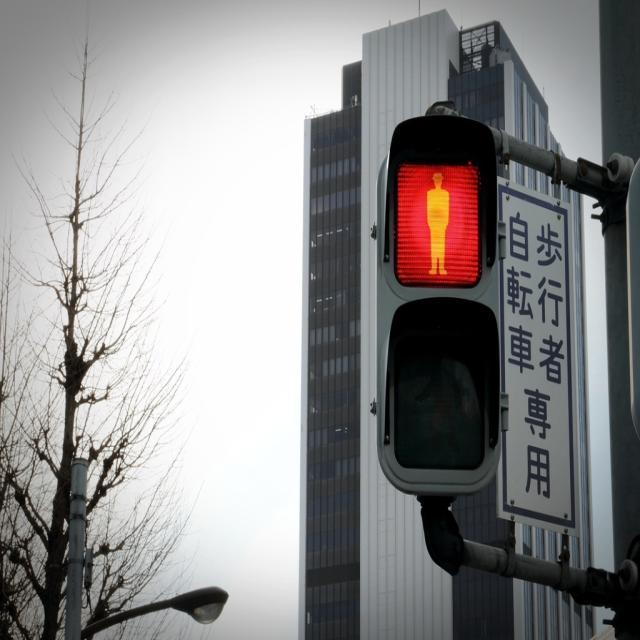traffic light: (383, 129, 508, 476)
